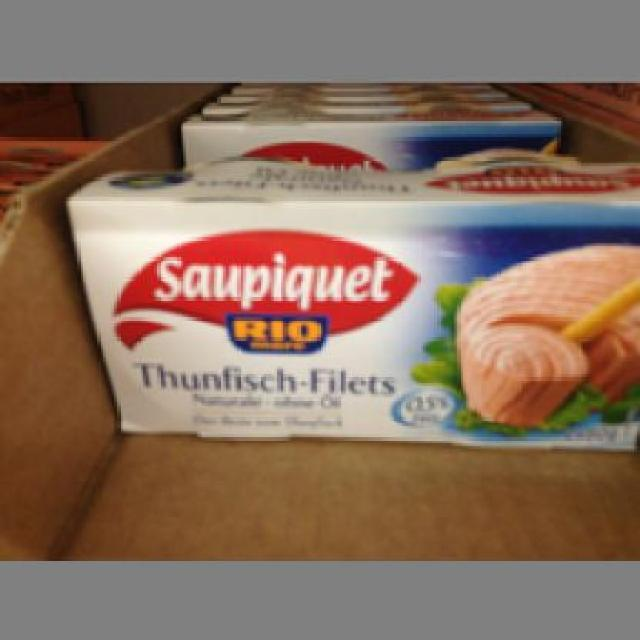Fish: (63, 165, 632, 458)
